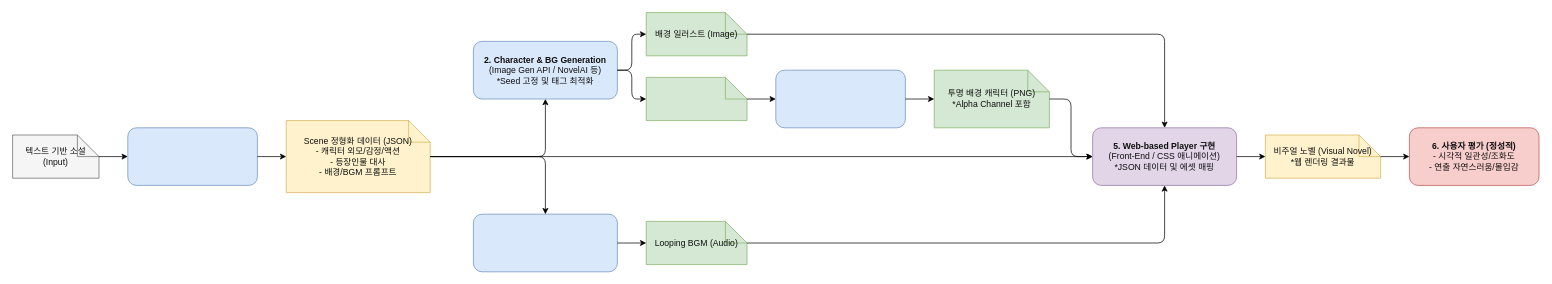
Some shapes in this 1552 by 284 pixel diagram are drawn without their labels. The centre of each missing label's shape, as x and y in pixels:
1. Text Parsing & Metadata 추출 (LLM / Gemini 1.5 Pro 등): the point at 192,156
3. Asset Post-Processing (Background Removal API) *2-Step 파이프라인: the point at 840,98
4. BGM Generation (Text-to-Audio Model API): the point at 545,242
캐릭터 일러스트 (Image): the point at 696,99
